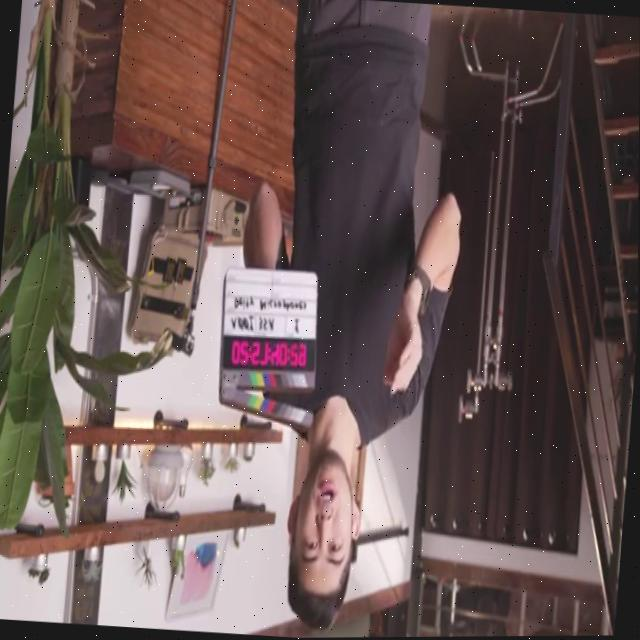Clapperboard: (212, 263, 324, 431)
